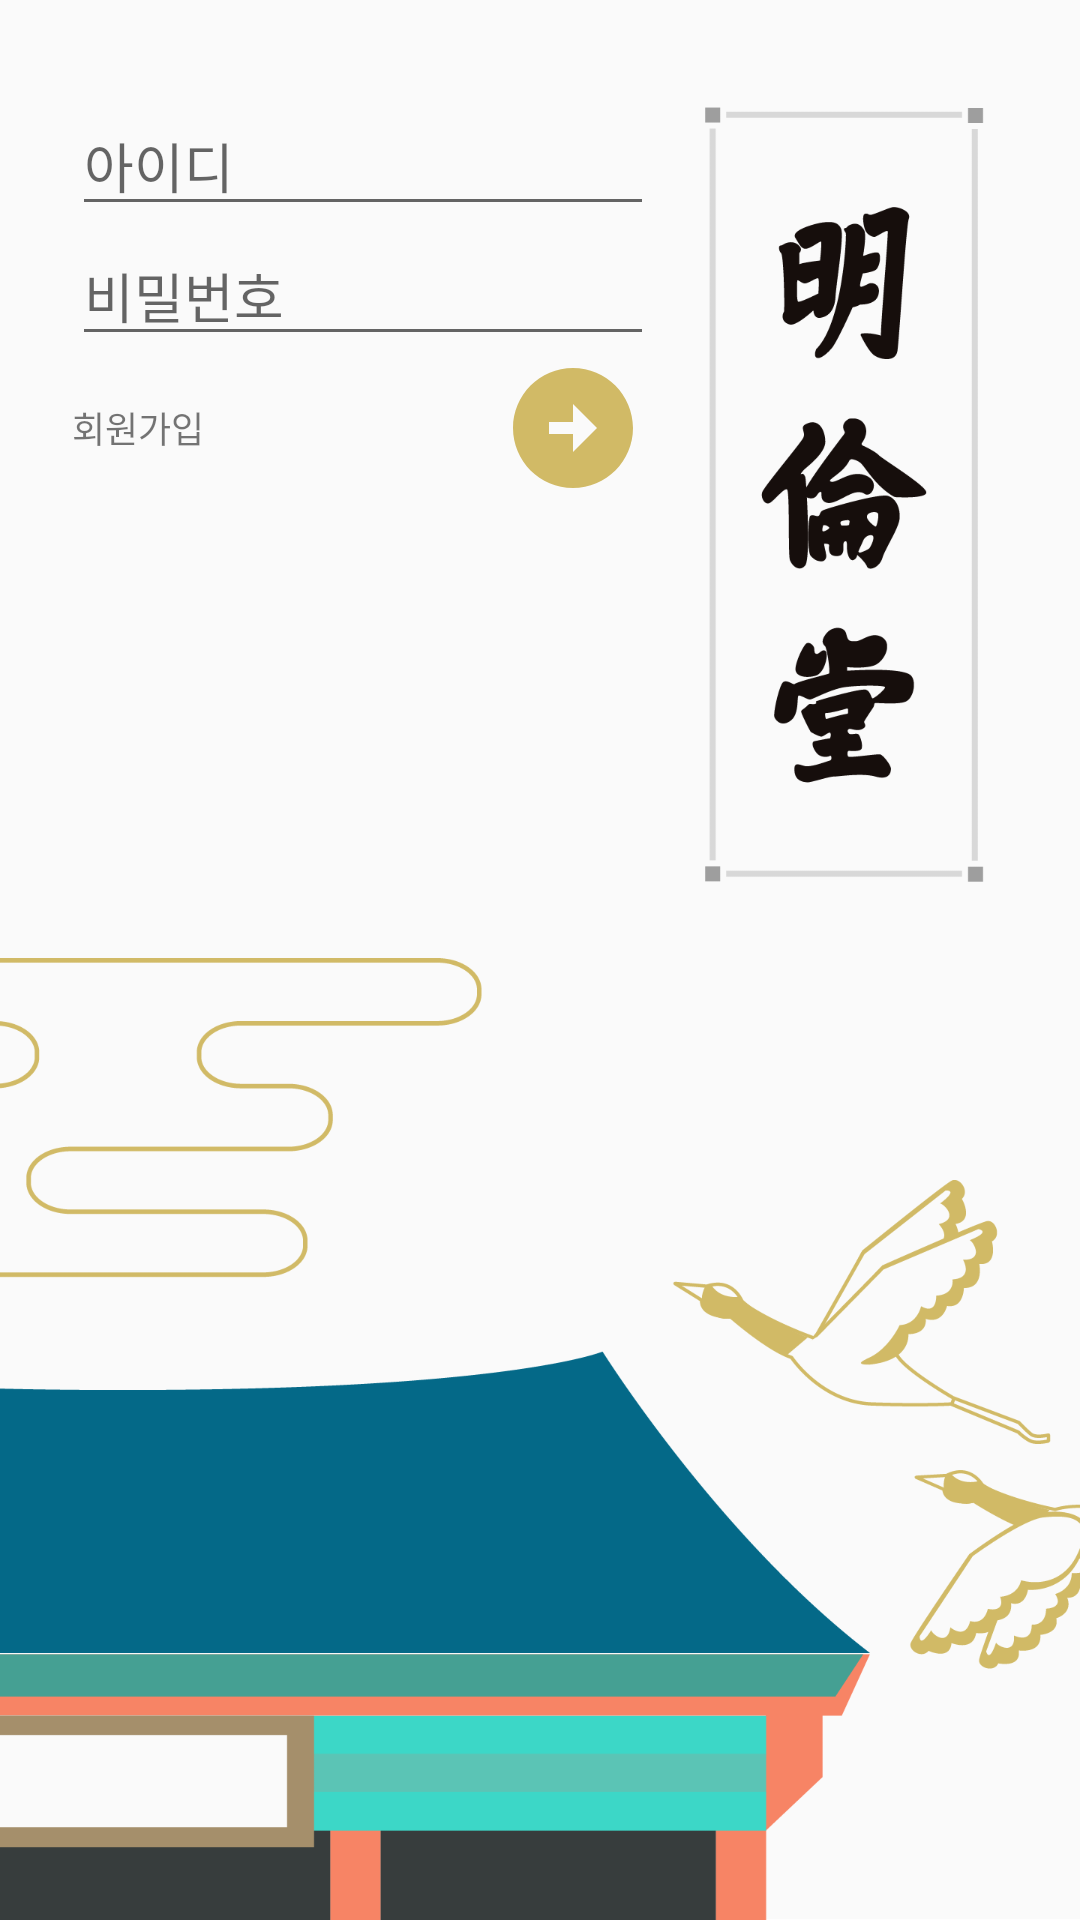

Icons on this 1080px×1920px Android screen, each with the point to tap as point (x, y):
next: point (573, 428)
